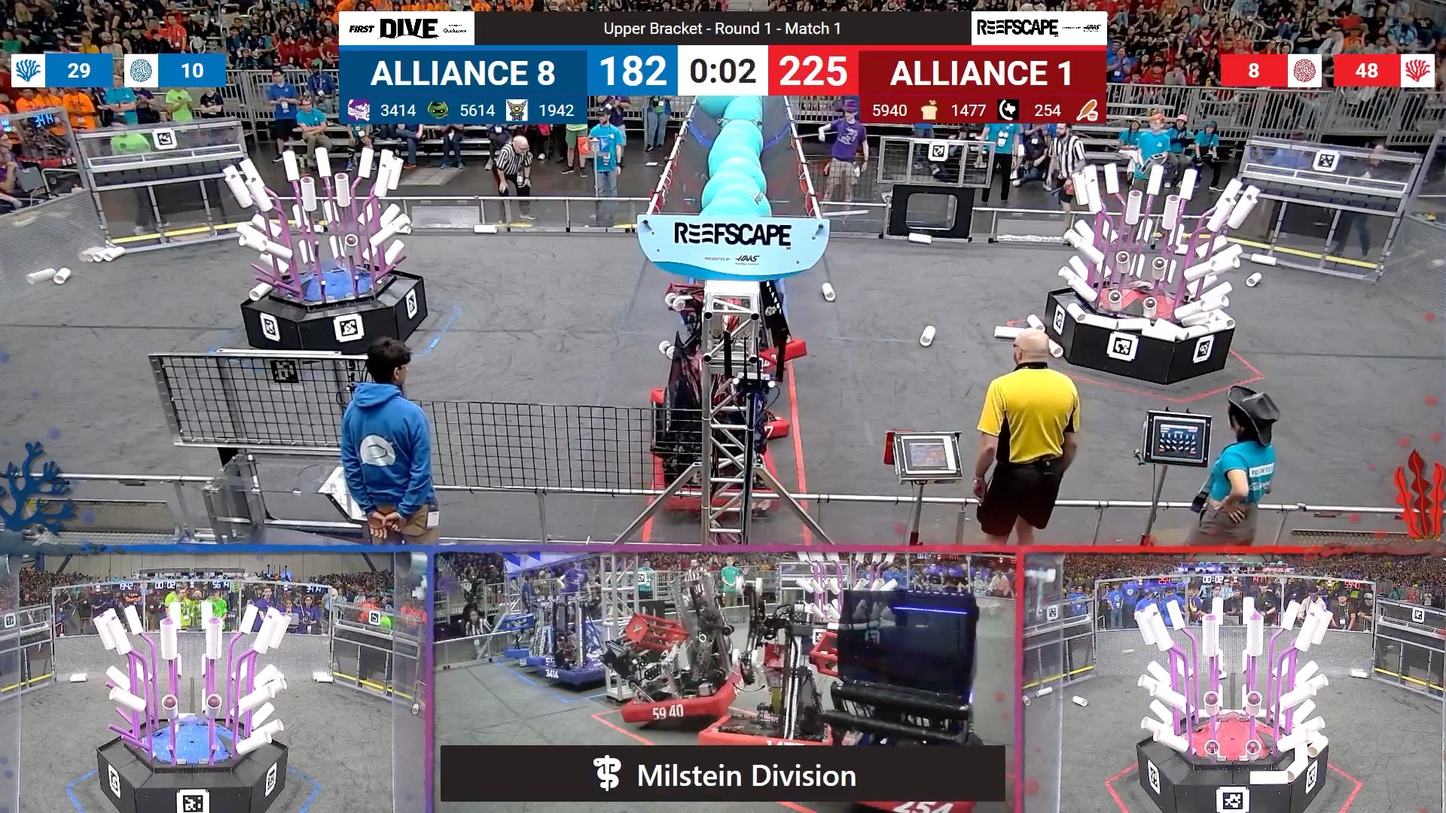bumpers: (649, 427, 801, 519), (620, 675, 743, 722), (694, 709, 853, 744), (518, 656, 622, 687), (775, 339, 817, 382), (509, 651, 560, 668)
